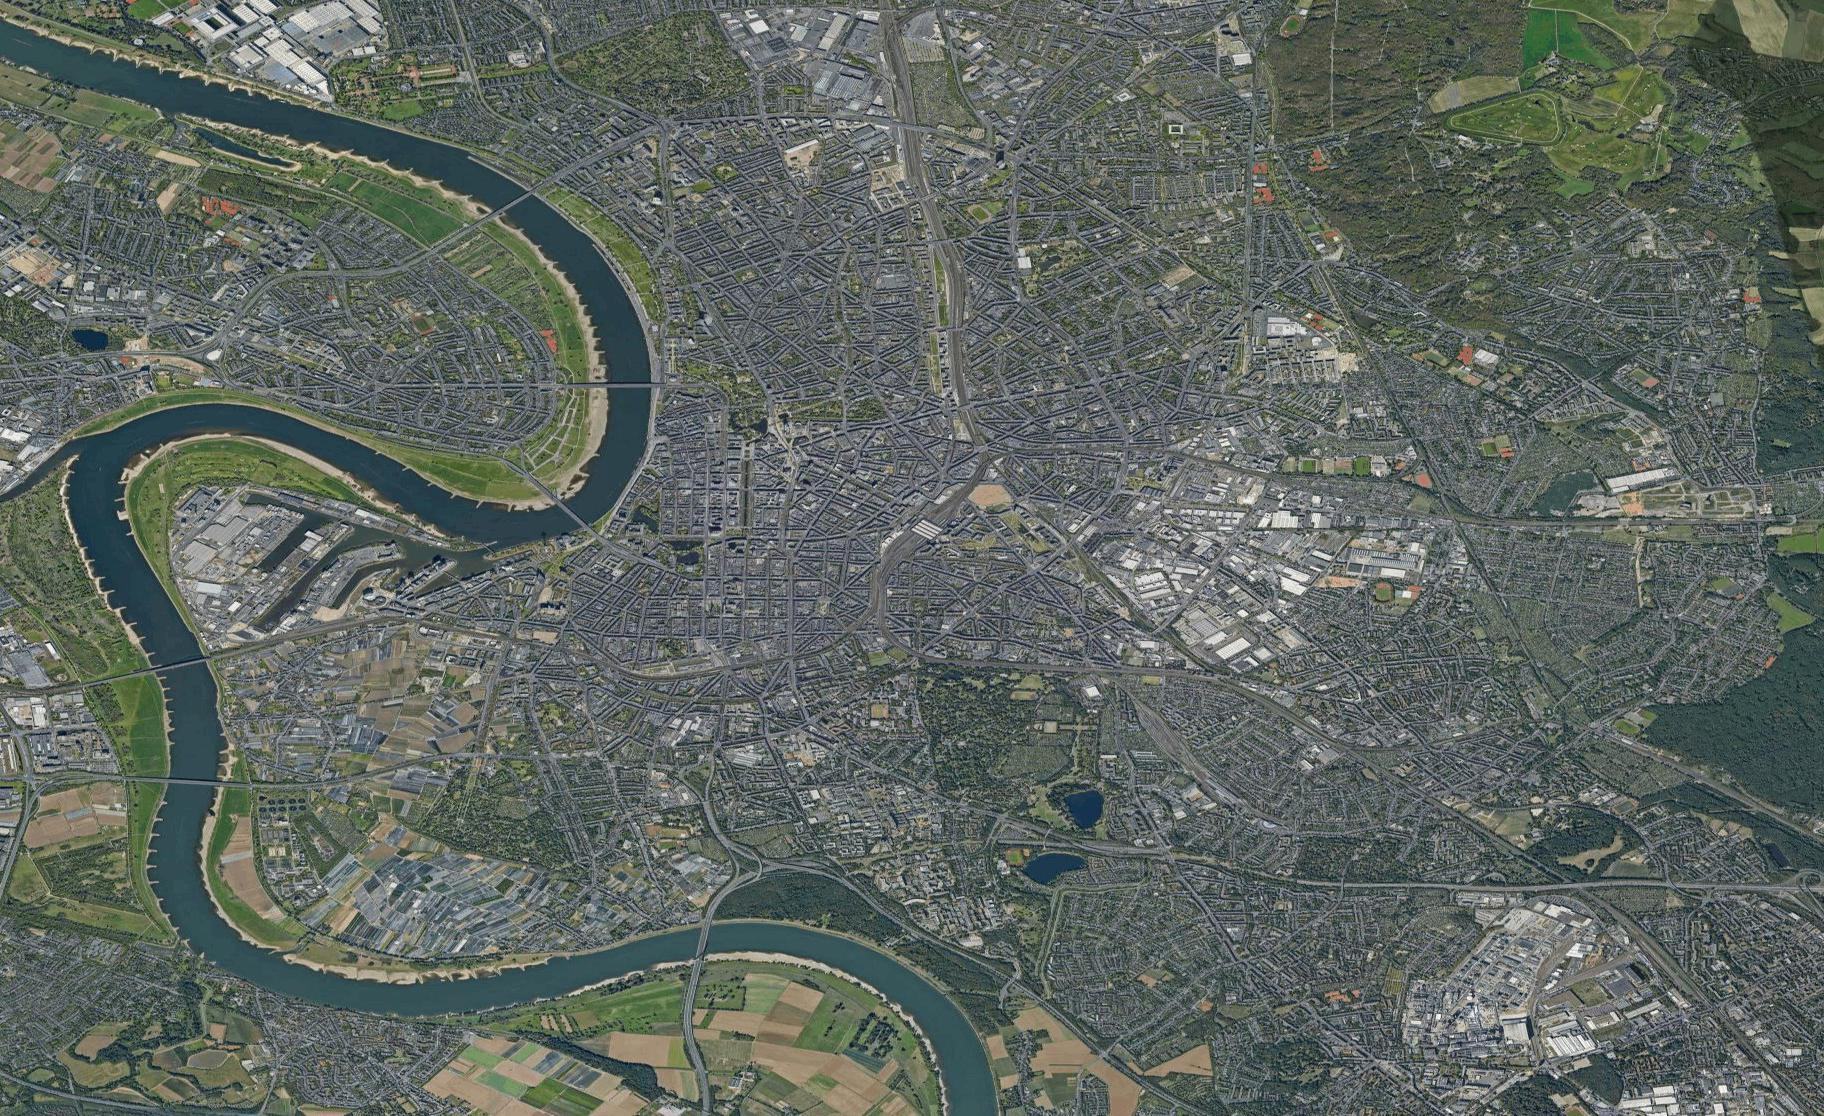bridge: (491, 184, 539, 224), (554, 497, 599, 537), (603, 369, 658, 395), (146, 654, 212, 673), (694, 922, 711, 965), (160, 777, 223, 787)
harbor: (242, 488, 500, 629)
train_station: (891, 508, 952, 565)
